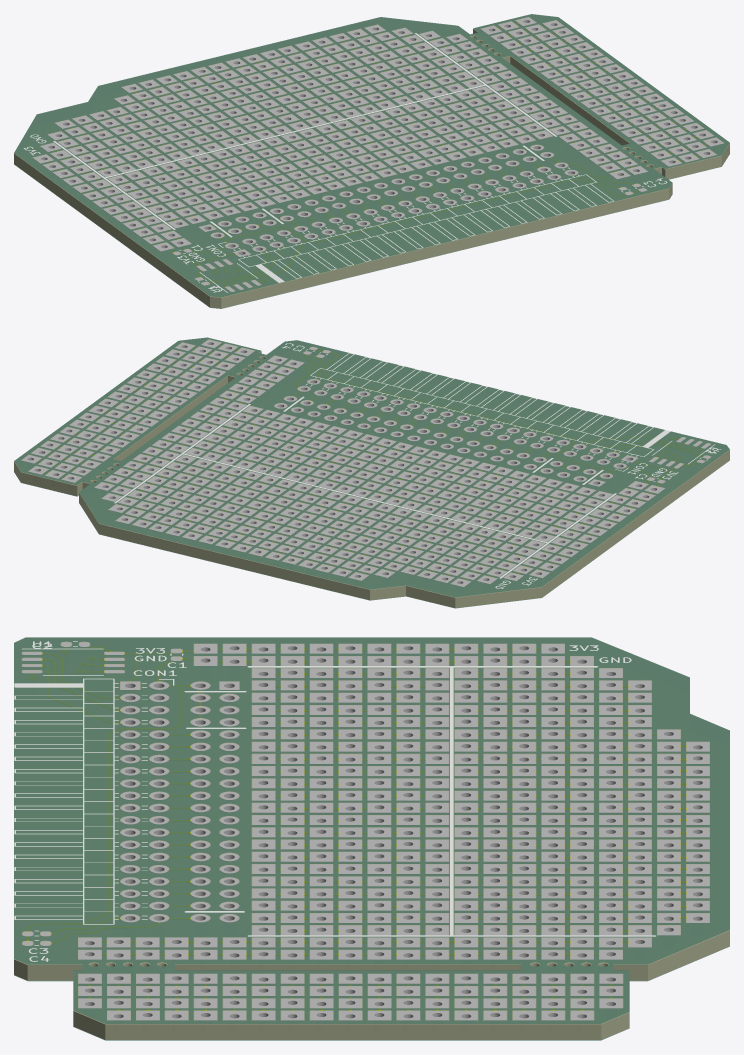
File: protoboard-cartridge-for-hackaday-supercon-2019.glb
3 views of the same model, one above another, from view 1: azimuth 30°, elevation 25°; view 2: azimuth 150°, elevation 25°; view 3: azimuth 270°, elevation 25° (orthographic). The views are drawn at different scales.
Visible parts, largest first — view 1: =>[0:1:1:7], =>[0:1:1:2], =>[0:1:1:9], =>[0:1:1:5]; view 2: =>[0:1:1:7], =>[0:1:1:2], =>[0:1:1:9], =>[0:1:1:5]; view 3: =>[0:1:1:7], =>[0:1:1:9], =>[0:1:1:2], =>[0:1:1:5].
Boxes of the visible parts, x1,y1,x2,y2 form: =>[0:1:1:7]: (14,14,729,308); =>[0:1:1:2]: (33,17,723,292); =>[0:1:1:9]: (14,15,729,308); =>[0:1:1:5]: (23,33,667,292); =>[0:1:1:7]: (14,337,729,608); =>[0:1:1:2]: (21,339,710,587); =>[0:1:1:9]: (14,338,729,608); =>[0:1:1:5]: (114,343,721,588); =>[0:1:1:7]: (14,637,729,1040); =>[0:1:1:9]: (14,638,729,1039); =>[0:1:1:2]: (22,642,709,1020); =>[0:1:1:5]: (14,641,655,961).
Size of the model in its own units: 0.0802 by 0.00166 by 0.0628.
Materials: 4 (4 with a texture image).
